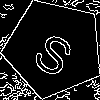S: (29, 23, 83, 80)
